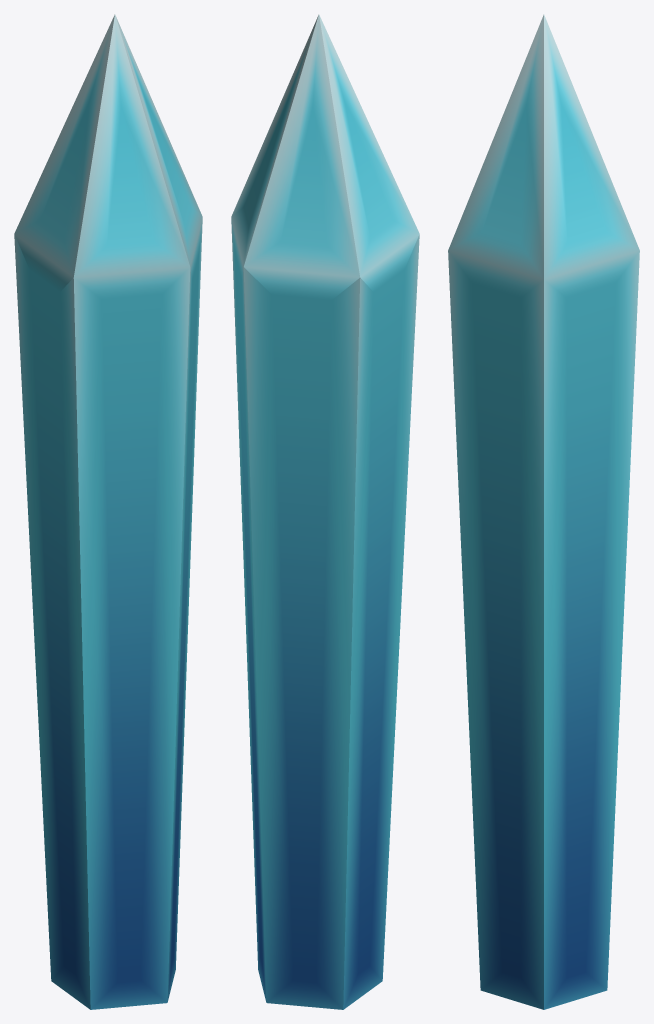
Rendered from Prop_Ice_Block_A.fbx.
The picture shows the model from 3 angles, left to right: view 1: azimuth 30°, elevation 25°; view 2: azimuth 150°, elevation 25°; view 3: azimuth 270°, elevation 25°; orthographic projection.
Parts seen in each view (by area): view 1: Prop_Ice_Block_A; view 2: Prop_Ice_Block_A; view 3: Prop_Ice_Block_A.
Part boxes in pixels (<box>): Prop_Ice_Block_A: <box>14,14,202,1009</box>; Prop_Ice_Block_A: <box>231,14,419,1009</box>; Prop_Ice_Block_A: <box>448,14,639,1009</box>.
Size of the model in its own units: 20.56 by 120 by 21.62.
1 material, 1 textured.
